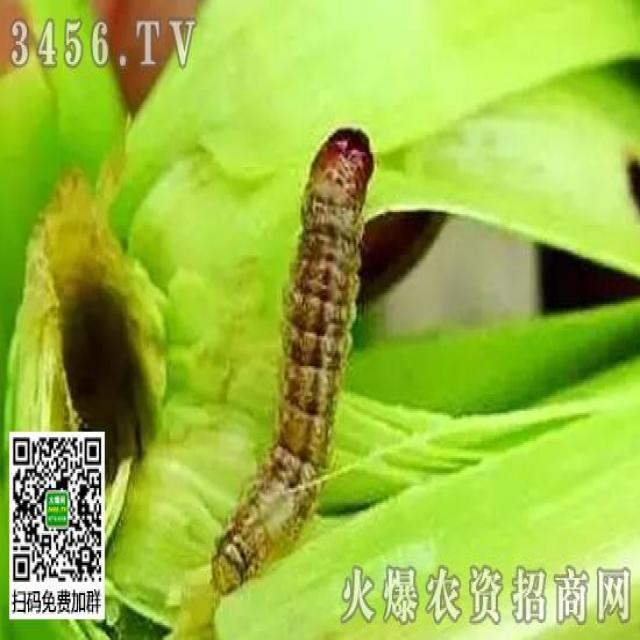armyworm: (200, 119, 389, 625)
